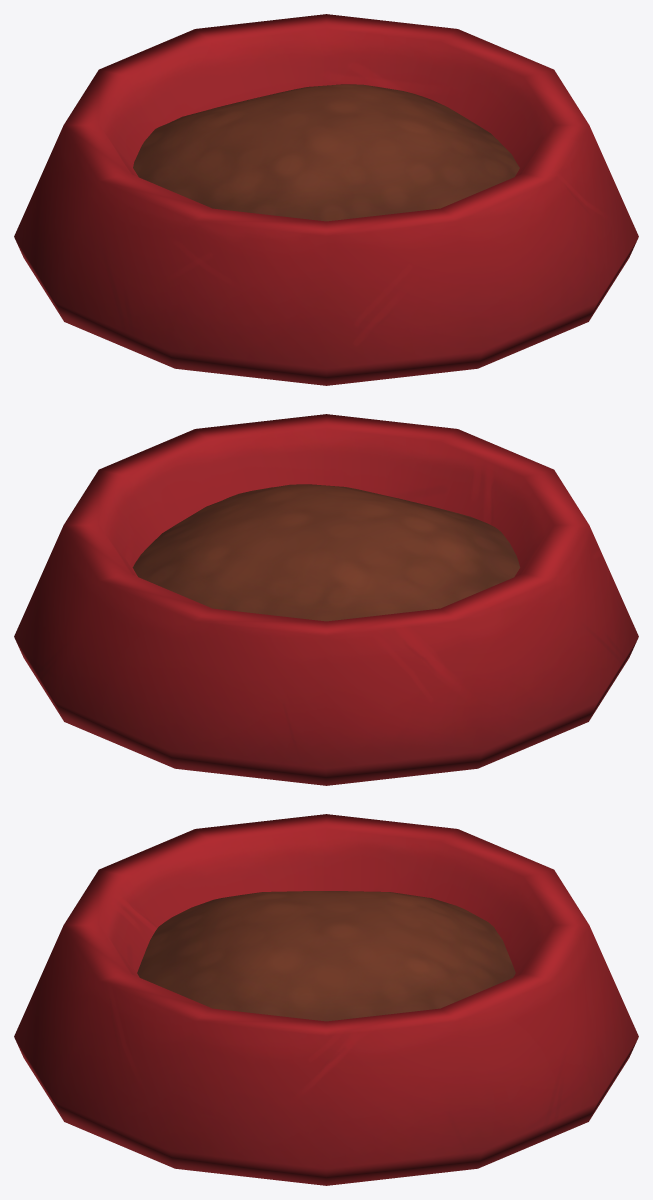
Rendered from foodBowl_model.fbx.
The picture shows the model from 3 angles, top to bottom: view 1: azimuth 30°, elevation 25°; view 2: azimuth 150°, elevation 25°; view 3: azimuth 270°, elevation 25°; orthographic projection.
Parts seen in each view (by area): view 1: bowl_model, food_model; view 2: bowl_model, food_model; view 3: bowl_model, food_model.
Part boxes in pixels (<box>): bowl_model: <box>14,14,638,385</box>; food_model: <box>133,84,519,221</box>; bowl_model: <box>14,414,638,785</box>; food_model: <box>132,484,520,621</box>; bowl_model: <box>14,814,638,1185</box>; food_model: <box>137,891,515,1021</box>.
Size of the model in its own units: 77.6 by 19.1 by 77.6.
